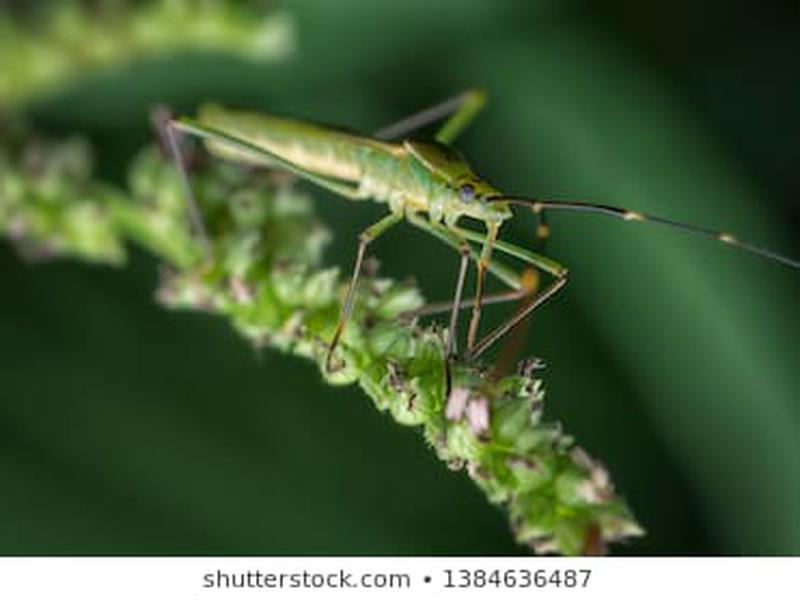Rice_earhead_bug: (128, 89, 563, 384)
